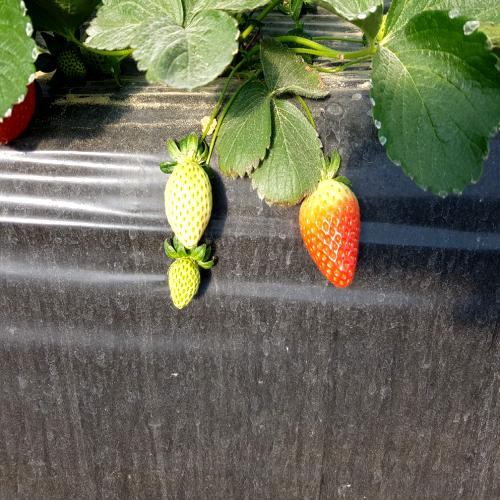ripe: (302, 178, 363, 284)
unripe: (166, 156, 210, 242), (168, 249, 203, 310)
